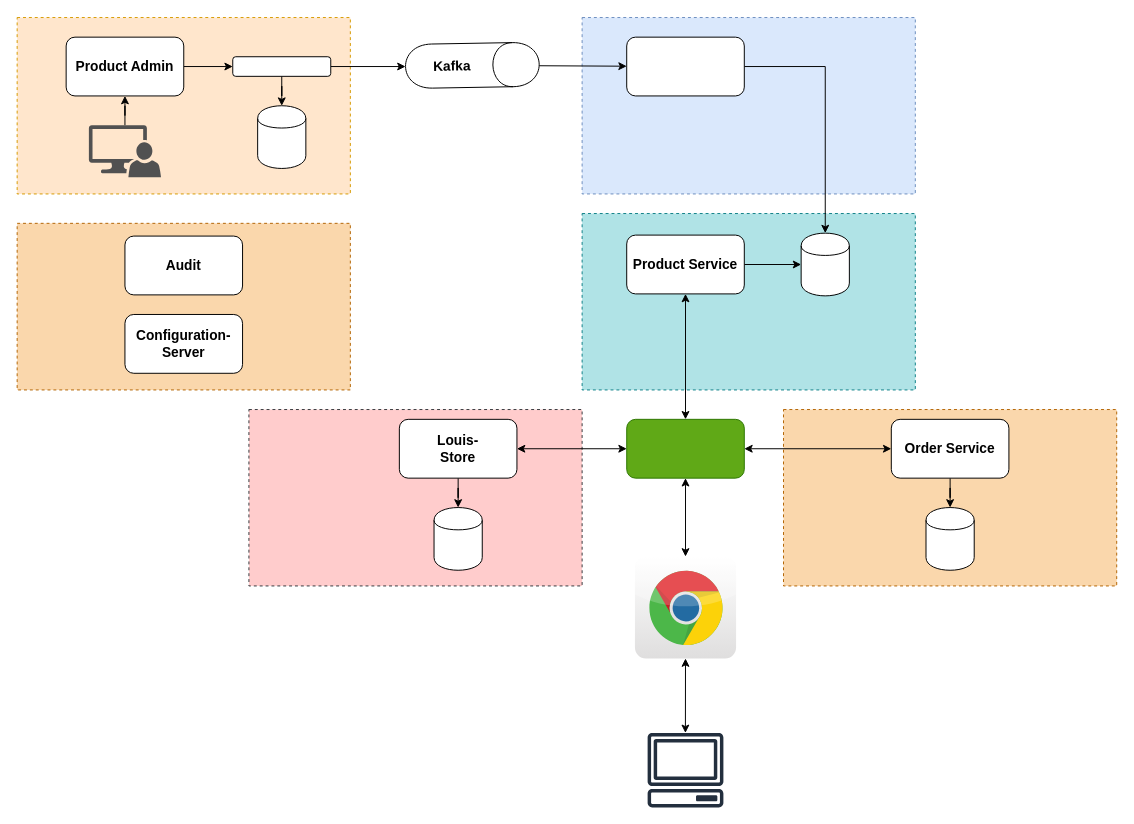
The diagram is 1134 pixels wide and 824 high, and some of its shapes have lost their labels. The centre of each missing label's shape, as x and y in pixels:
"Gateway" belongs at [685,448].
"Product Import" belongs at [685,66].
"Save product" belongs at [281,66].
